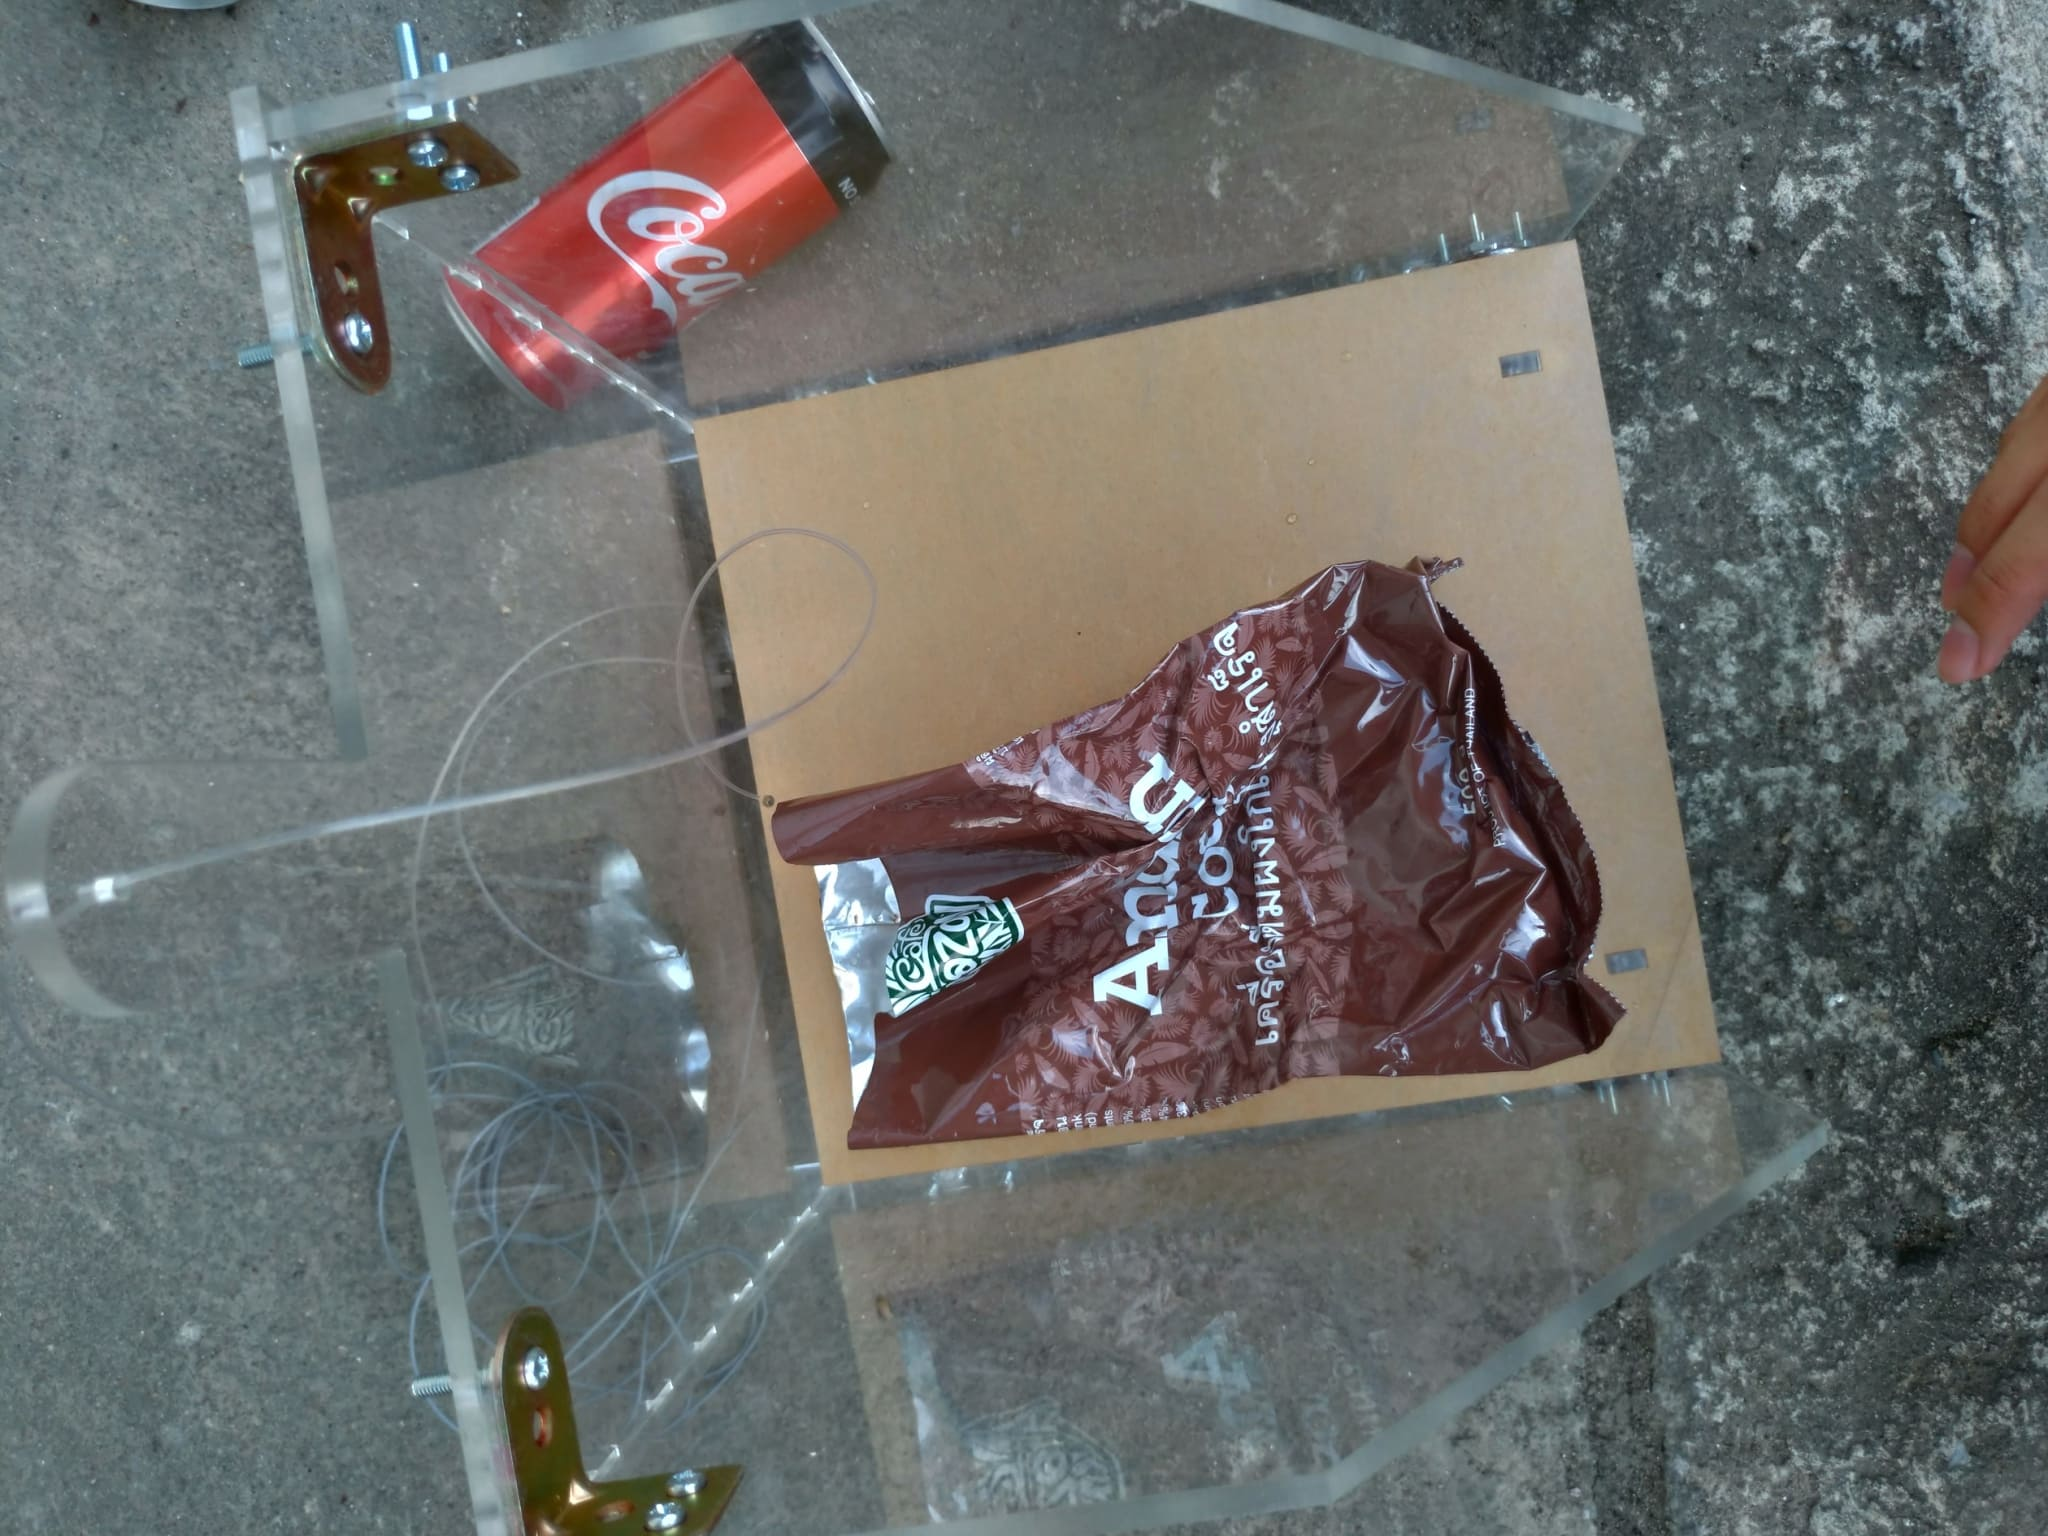AlCan: (447, 24, 895, 432)
Others: (774, 553, 1634, 1150)
